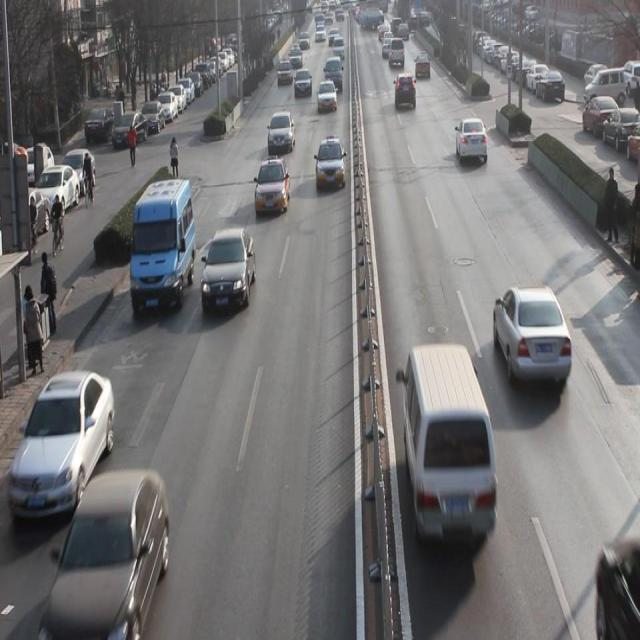car: (42, 477, 171, 640), (12, 372, 115, 512), (492, 283, 573, 392), (201, 228, 255, 312), (253, 156, 291, 217), (315, 137, 346, 195), (455, 118, 489, 164), (267, 109, 296, 155), (395, 73, 416, 108), (317, 82, 337, 116), (294, 68, 314, 100), (276, 58, 294, 88), (288, 46, 303, 68)
truck: (399, 351, 502, 546), (132, 180, 196, 314), (323, 58, 344, 94)
